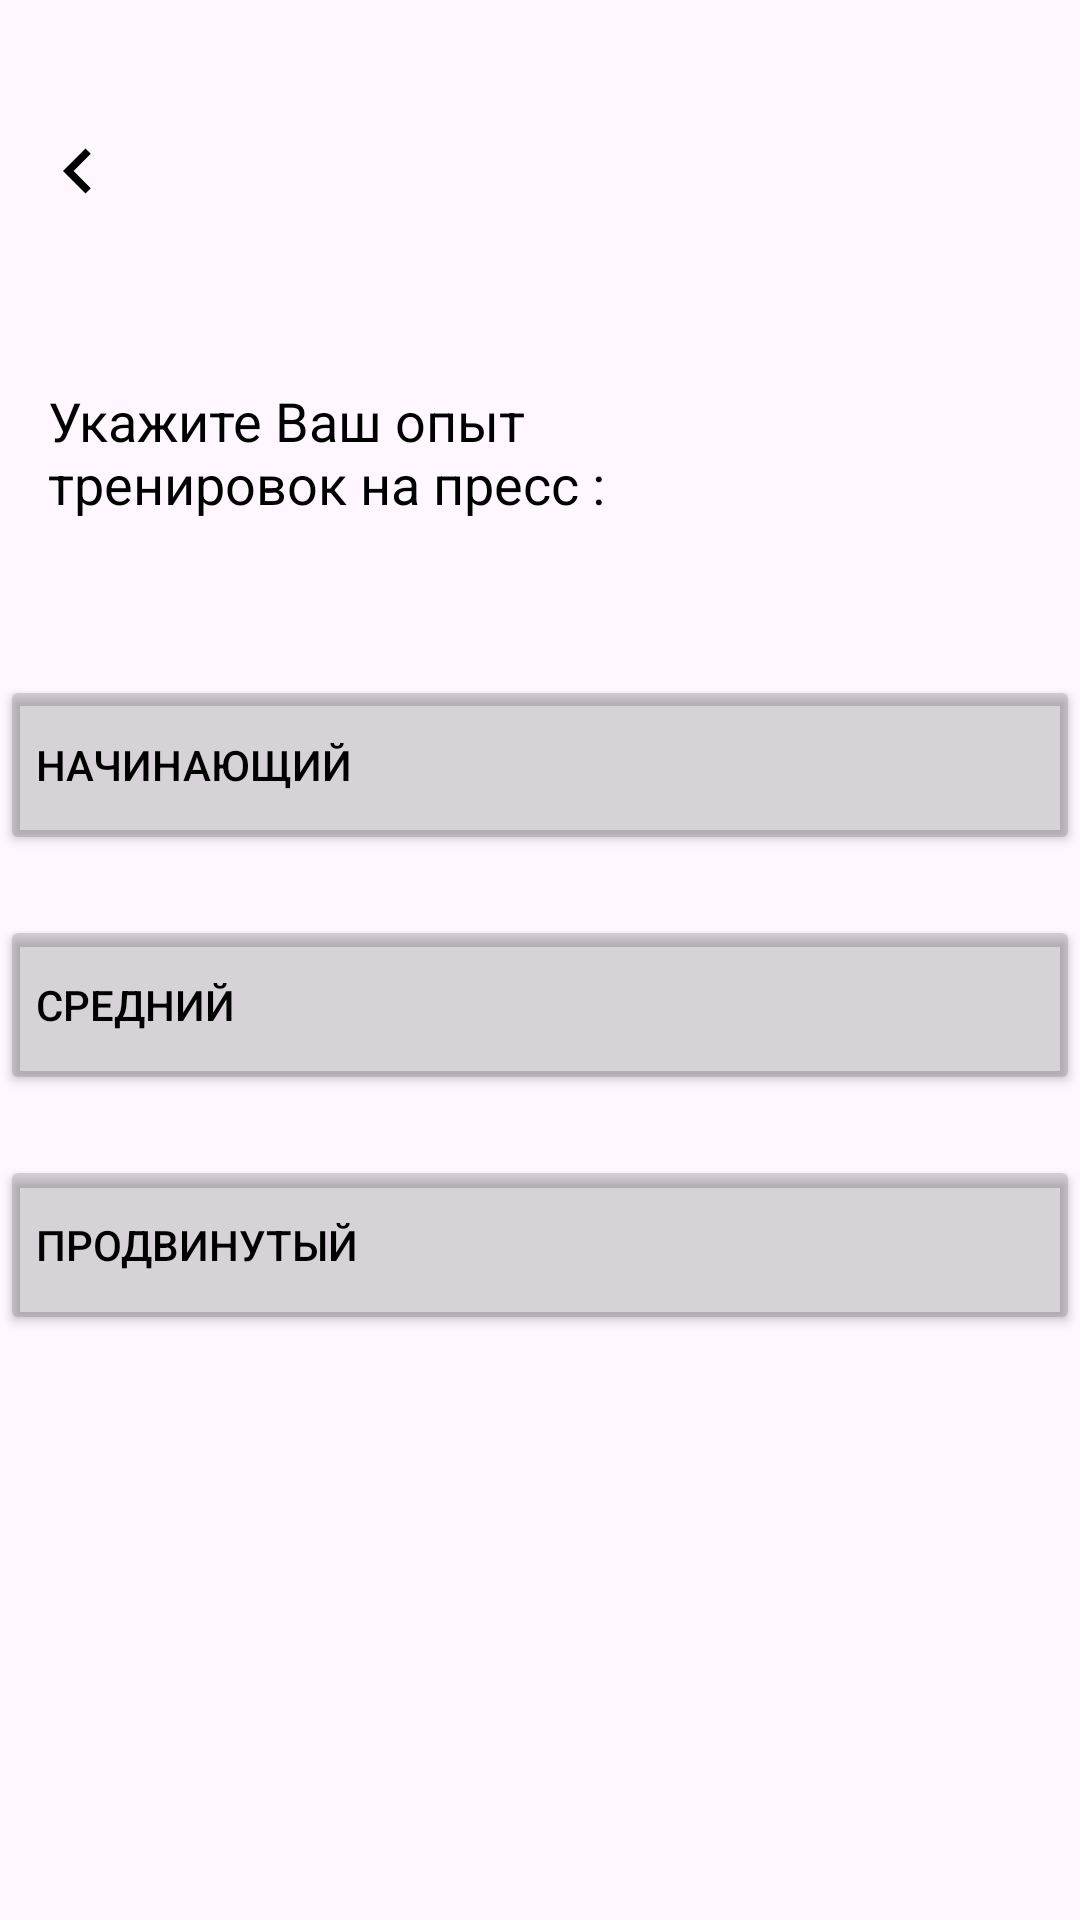

Named icons in this screenshot (1080px x 1920px) and their bounding boxes, rect(x1, y1, x2, y2):
Нажмите, если хотите вернуться на предыдущий экран: rect(63, 148, 91, 194)
